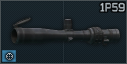KMZ 1P59 3-10x riflescope: (0, 0, 127, 64)
